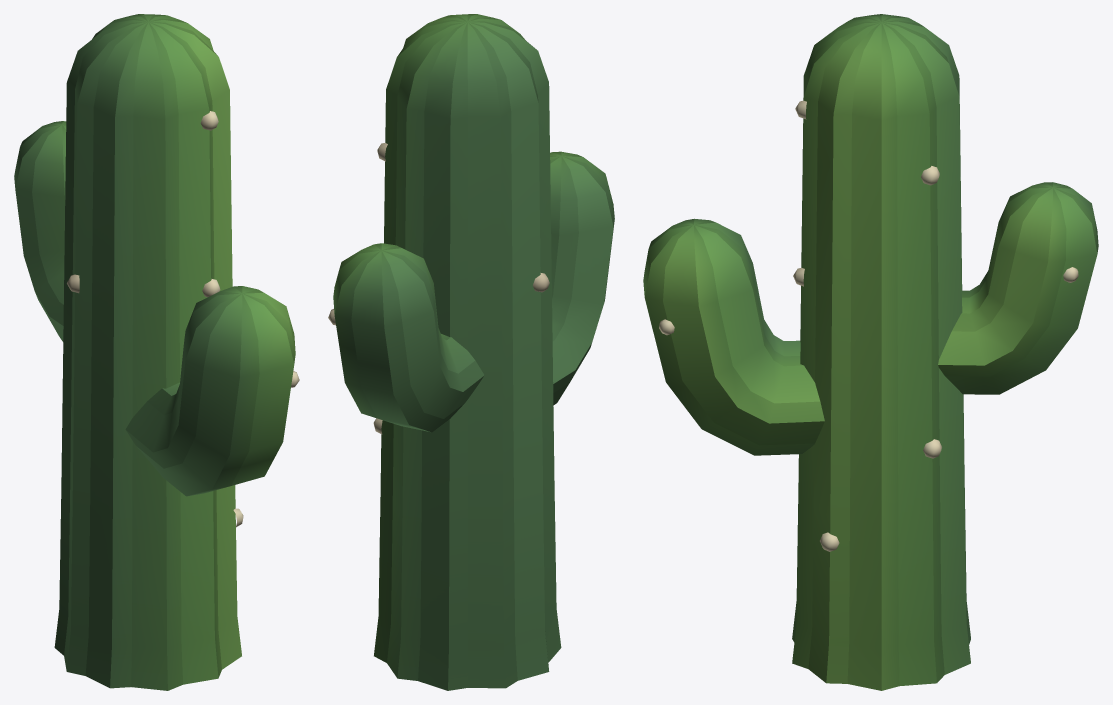
File: Cactus_Remake.glb
3 views of the same model, side by side, from view 1: azimuth 30°, elevation 25°; view 2: azimuth 150°, elevation 25°; view 3: azimuth 270°, elevation 25° (orthographic).
Visible parts, largest first — view 1: Cactus_Remake; view 2: Cactus_Remake; view 3: Cactus_Remake.
Boxes of the visible parts, box(x1,y1,x2,y2) form: Cactus_Remake: box(14, 14, 299, 690); Cactus_Remake: box(328, 14, 614, 690); Cactus_Remake: box(643, 14, 1098, 690).
Bounding box in the file's own units: 0.3781 × 1.39 × 0.9145.
